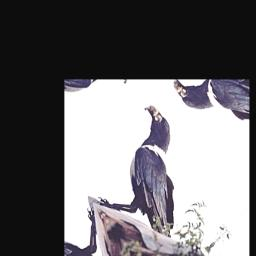Crow: (76, 100, 223, 256)
